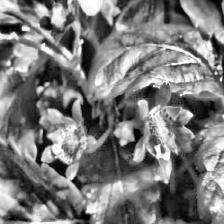Blossom Blight: (144, 108, 176, 155), (58, 124, 87, 162)
